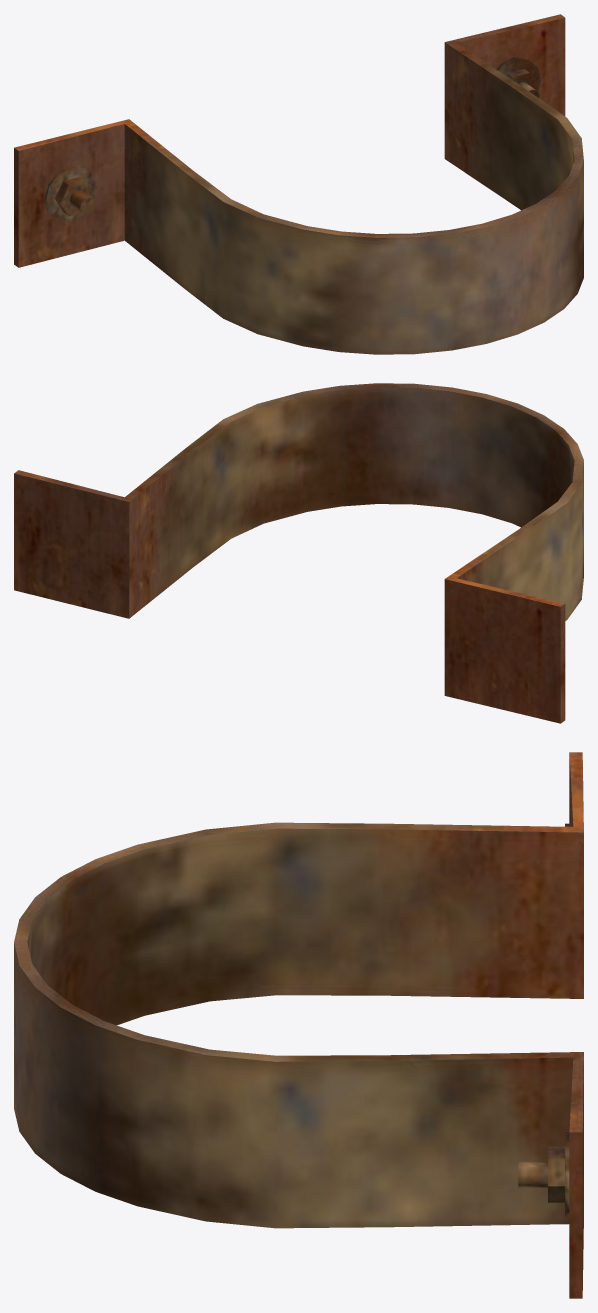
File: old_pipe_11.glb
3 views of the same model, one above another, from view 1: azimuth 30°, elevation 25°; view 2: azimuth 150°, elevation 25°; view 3: azimuth 270°, elevation 25° (orthographic). The views are drawn at different scales.
Parts seen in each view (by area): view 1: old_pipe_11; view 2: old_pipe_11; view 3: old_pipe_11.
Boxes of the visible parts, x1=… form: old_pipe_11: x1=14, y1=14, x2=583, y2=354; old_pipe_11: x1=14, y1=383, x2=583, y2=723; old_pipe_11: x1=14, y1=752, x2=583, y2=1298.
Size of what is drawn, in the model's own units: 0.1303 by 0.0266 by 0.0826.
1 material, 1 textured.
